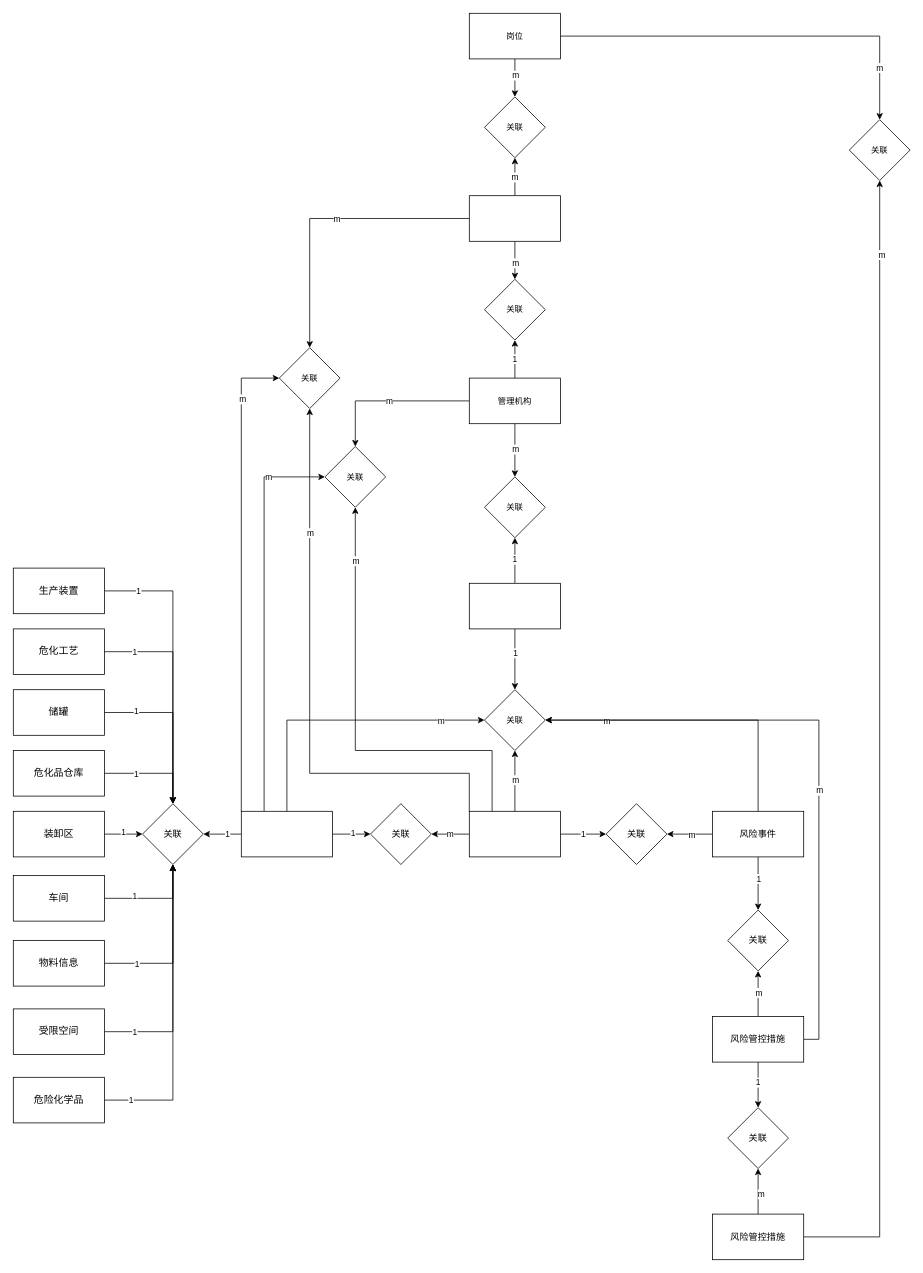
The diagram is 923 pixels wide and 1273 high, and some of its shapes have lost their labels. The shapes that lost their labels are listed below. From the top down, each one's centre as x and y in pixels, then its label:
At pixel 514 218: "机构人员".
At pixel 514 606: "企业表".
At pixel 286 834: "风险分析对象".
At pixel 514 834: "风险分析单元".
